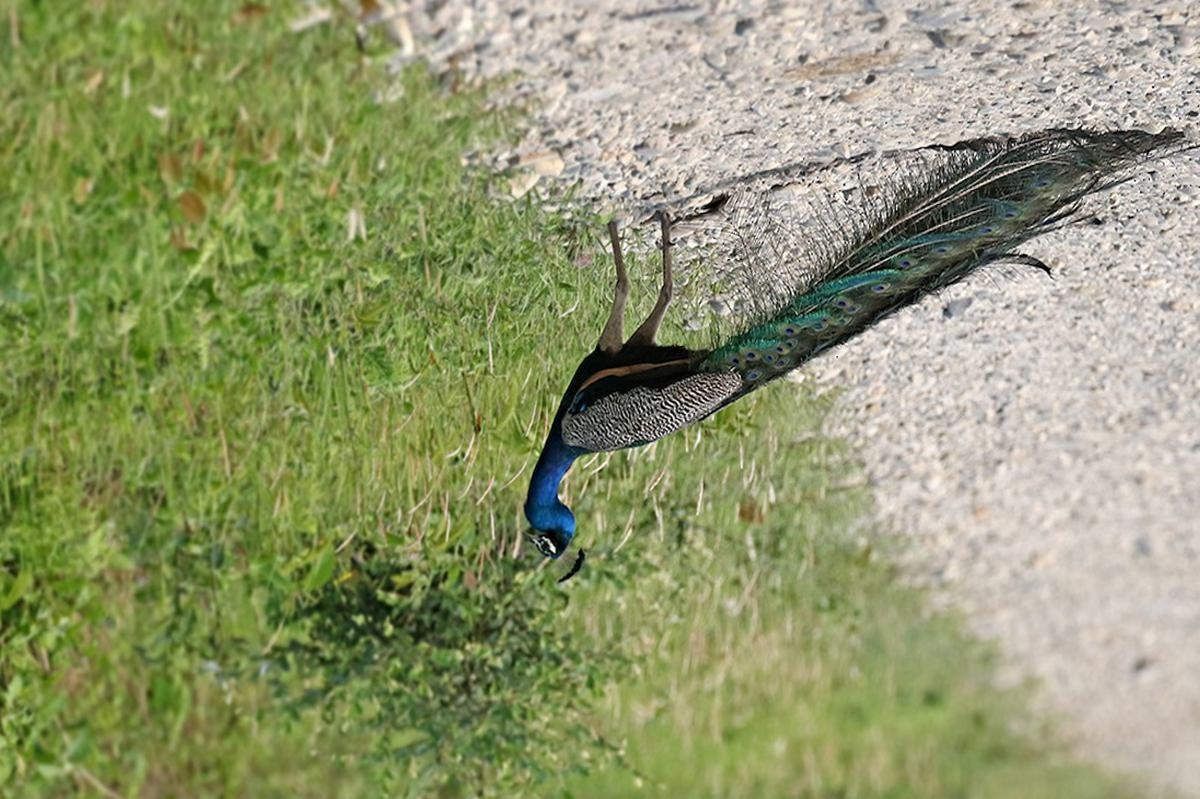peacock: (510, 70, 1168, 599)
